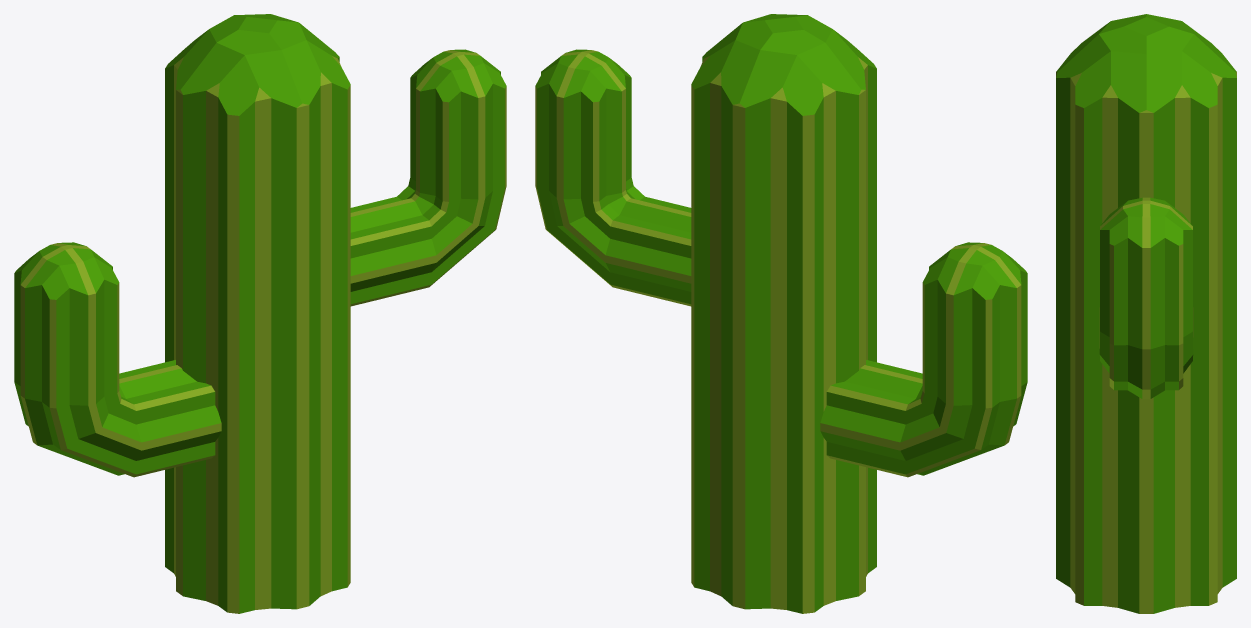
The model's file is tree.glb.
The picture shows the model from 3 angles, left to right: view 1: azimuth 30°, elevation 25°; view 2: azimuth 150°, elevation 25°; view 3: azimuth 270°, elevation 25°; orthographic projection.
Visible parts, largest first — view 1: TRONCO, BRAZO IZQUIERDO .001, BRAZO IZQUIERDO; view 2: TRONCO, BRAZO IZQUIERDO .001, BRAZO IZQUIERDO; view 3: TRONCO, BRAZO IZQUIERDO.
Boxes of the visible parts, x1=… form: TRONCO: x1=165, y1=14, x2=350, y2=613; BRAZO IZQUIERDO .001: x1=14, y1=242, x2=221, y2=477; BRAZO IZQUIERDO: x1=350, y1=49, x2=506, y2=306; TRONCO: x1=691, y1=14, x2=876, y2=613; BRAZO IZQUIERDO .001: x1=820, y1=242, x2=1027, y2=477; BRAZO IZQUIERDO: x1=535, y1=49, x2=691, y2=306; TRONCO: x1=1056, y1=14, x2=1236, y2=613; BRAZO IZQUIERDO: x1=1099, y1=197, x2=1193, y2=399.
Bounding box in the file's own units: 3.94 × 4.34 × 1.3.
